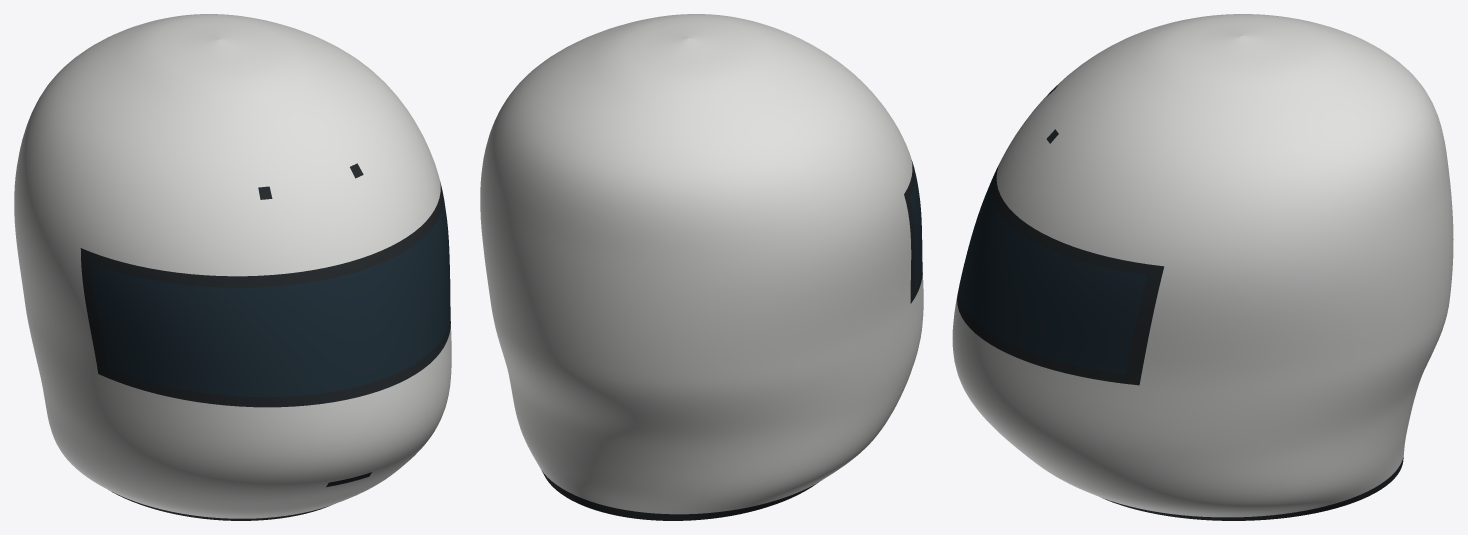
File: fullface-helmet.glb
3 renders of one model, left to right at view 1: azimuth 30°, elevation 25°; view 2: azimuth 150°, elevation 25°; view 3: azimuth 270°, elevation 25°, orthographic. The views are drawn at different scales.
Parts seen in each view (by area): view 1: full-face-helmet; view 2: full-face-helmet; view 3: full-face-helmet.
Boxes of the visible parts, x1,y1,x2,y2 form: full-face-helmet: [14, 14, 451, 520]; full-face-helmet: [480, 14, 923, 520]; full-face-helmet: [952, 14, 1453, 520].
Size of the model in its own units: 0.3315 by 0.354 by 0.3805.
